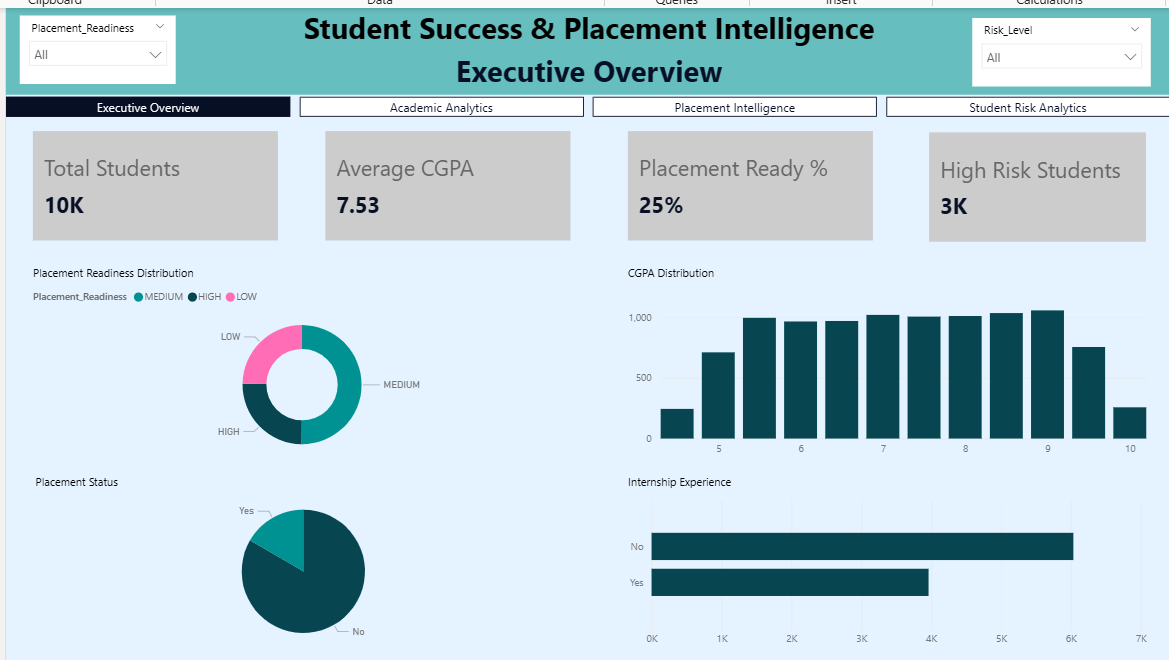

This screenshot's page, from the dashboard's own definition file:
{"tool":"powerbi","page":{"name":"Executive Overview","canvas":[1280,720],"ordinal":0},"visuals":[{"type":"textbox","title":"Student Success Placement Intelligence ","box":[0,0,1280.3,97.4],"z":0},{"type":"cardVisual","fields":{"Data":["cleaned_student_data.Total Students"]},"box":[24.7,130.4,279.9,130.4],"z":1000},{"type":"cardVisual","fields":{"Data":["cleaned_student_data.Average CGPA"]},"box":[345.8,130.4,279.9,130.4],"z":2000},{"type":"cardVisual","fields":{"Data":["cleaned_student_data.Placement Ready %"]},"box":[677.9,130.4,279.9,130.4],"z":3000},{"type":"cardVisual","fields":{"Data":["cleaned_student_data.High Risk Students"]},"box":[1008.6,131.7,248.4,130.4],"z":4000},{"type":"donutChart","title":"Placement Readiness Distribution","fields":{"Category":["cleaned_student_data.Placement_Readiness"],"Y":["cleaned_student_data.Total Students"]},"box":[24.7,282.7,601,218.2],"z":5000},{"type":"clusteredColumnChart","title":"CGPA Distribution","fields":{"Category":["cleaned_student_data.CGPA (bins)"],"Y":["CountNonNull(cleaned_student_data.College_ID)"]},"box":[677.9,282.7,579.1,218.2],"z":6000},{"type":"pieChart","title":"Placement Status","fields":{"Category":["cleaned_student_data.Placement"],"Y":["CountNonNull(cleaned_student_data.College_ID)"]},"box":[27.4,511.8,598.3,197.6],"z":7000},{"type":"clusteredBarChart","title":"Internship Experience","fields":{"Category":["cleaned_student_data.Internship_Experience"],"Y":["CountNonNull(cleaned_student_data.College_ID)"]},"box":[678,512,579,198],"z":8000},{"type":"slicer","fields":{"Values":["cleaned_student_data.Placement_Readiness"]},"box":[15.1,8.2,171.5,75.5],"z":9000},{"type":"slicer","fields":{"Values":["cleaned_student_data.Risk_Level"]},"box":[1060.7,11,196.2,75.5],"z":10000},{"type":"pageNavigator","box":[0,97,1280,22.1],"z":11000}]}

Visuals, with their boxes on the page's 1280x720 design canvas (x1, y1, x2, y2). These are canvas units, not pixel positions in the 1169x660 screenshot, which may show the page scaled, cropped or inside an application window:
"Student Success Placement Intelligence " textbox: BBox(0, 0, 1280, 97)
cardVisual - cleaned_student_data.Total Students: BBox(25, 130, 305, 261)
cardVisual - cleaned_student_data.Average CGPA: BBox(346, 130, 626, 261)
cardVisual - cleaned_student_data.Placement Ready %: BBox(678, 130, 958, 261)
cardVisual - cleaned_student_data.High Risk Students: BBox(1009, 132, 1257, 262)
"Placement Readiness Distribution" donutChart: BBox(25, 283, 626, 501)
"CGPA Distribution" clusteredColumnChart: BBox(678, 283, 1257, 501)
"Placement Status" pieChart: BBox(27, 512, 626, 709)
"Internship Experience" clusteredBarChart: BBox(678, 512, 1257, 710)
slicer - cleaned_student_data.Placement_Readiness: BBox(15, 8, 187, 84)
slicer - cleaned_student_data.Risk_Level: BBox(1061, 11, 1257, 86)
pageNavigator: BBox(0, 97, 1280, 119)
